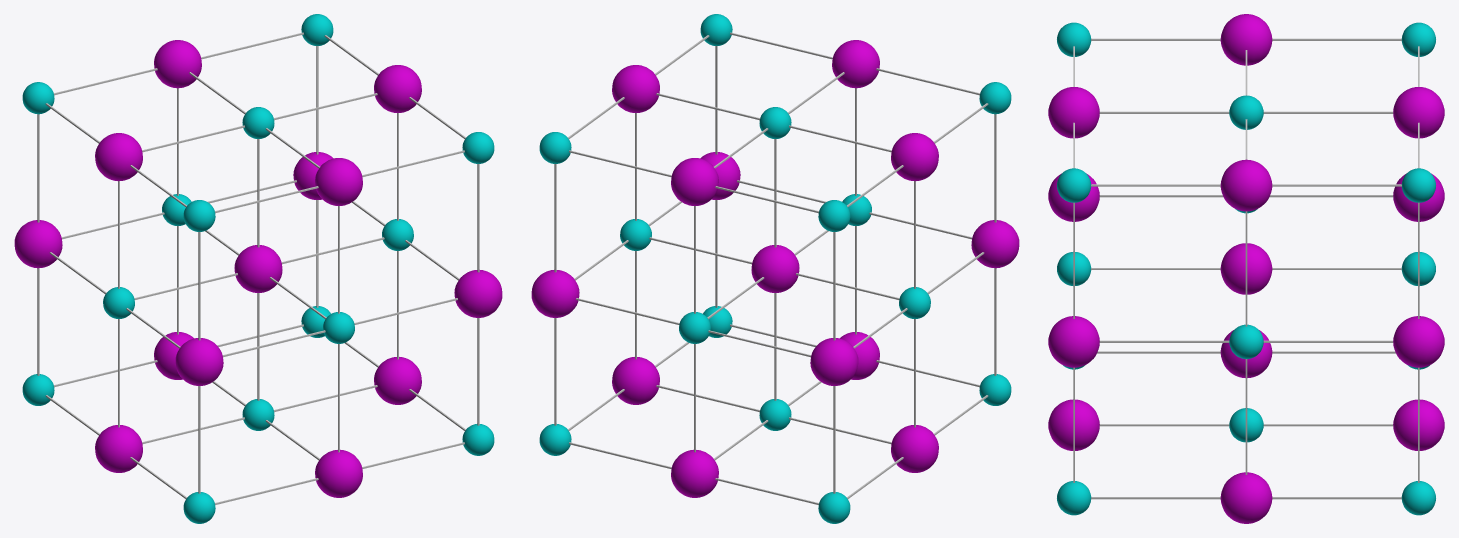
The model's file is nacl_centrado.glb.
3 views of the same model, side by side, from view 1: azimuth 30°, elevation 25°; view 2: azimuth 150°, elevation 25°; view 3: azimuth 270°, elevation 25° (orthographic). The views are drawn at different scales.
Parts seen in each view (by area): view 1: arista55; view 2: arista55; view 3: arista55.
Boxes of the visible parts, bbox=[...] form: arista55: bbox=[14, 14, 502, 523]; arista55: bbox=[531, 14, 1019, 523]; arista55: bbox=[1048, 14, 1444, 523].
Size of the model in its own units: 2.3 by 2.3 by 2.3.
